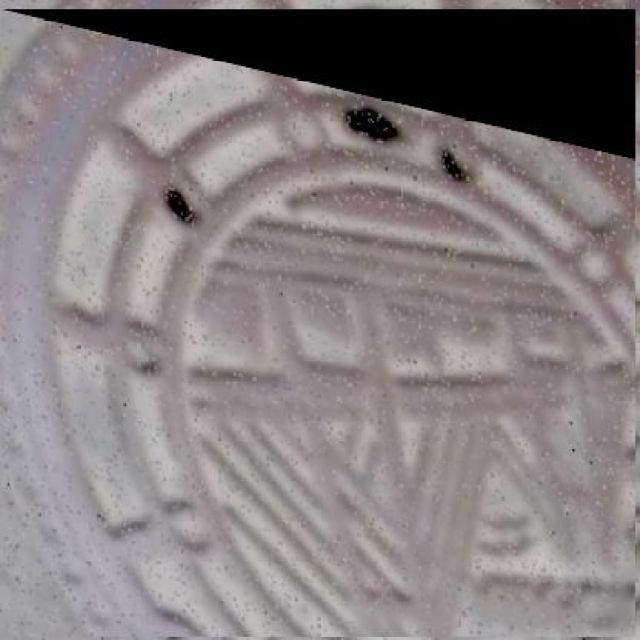Manhole: (3, 8, 638, 636)
